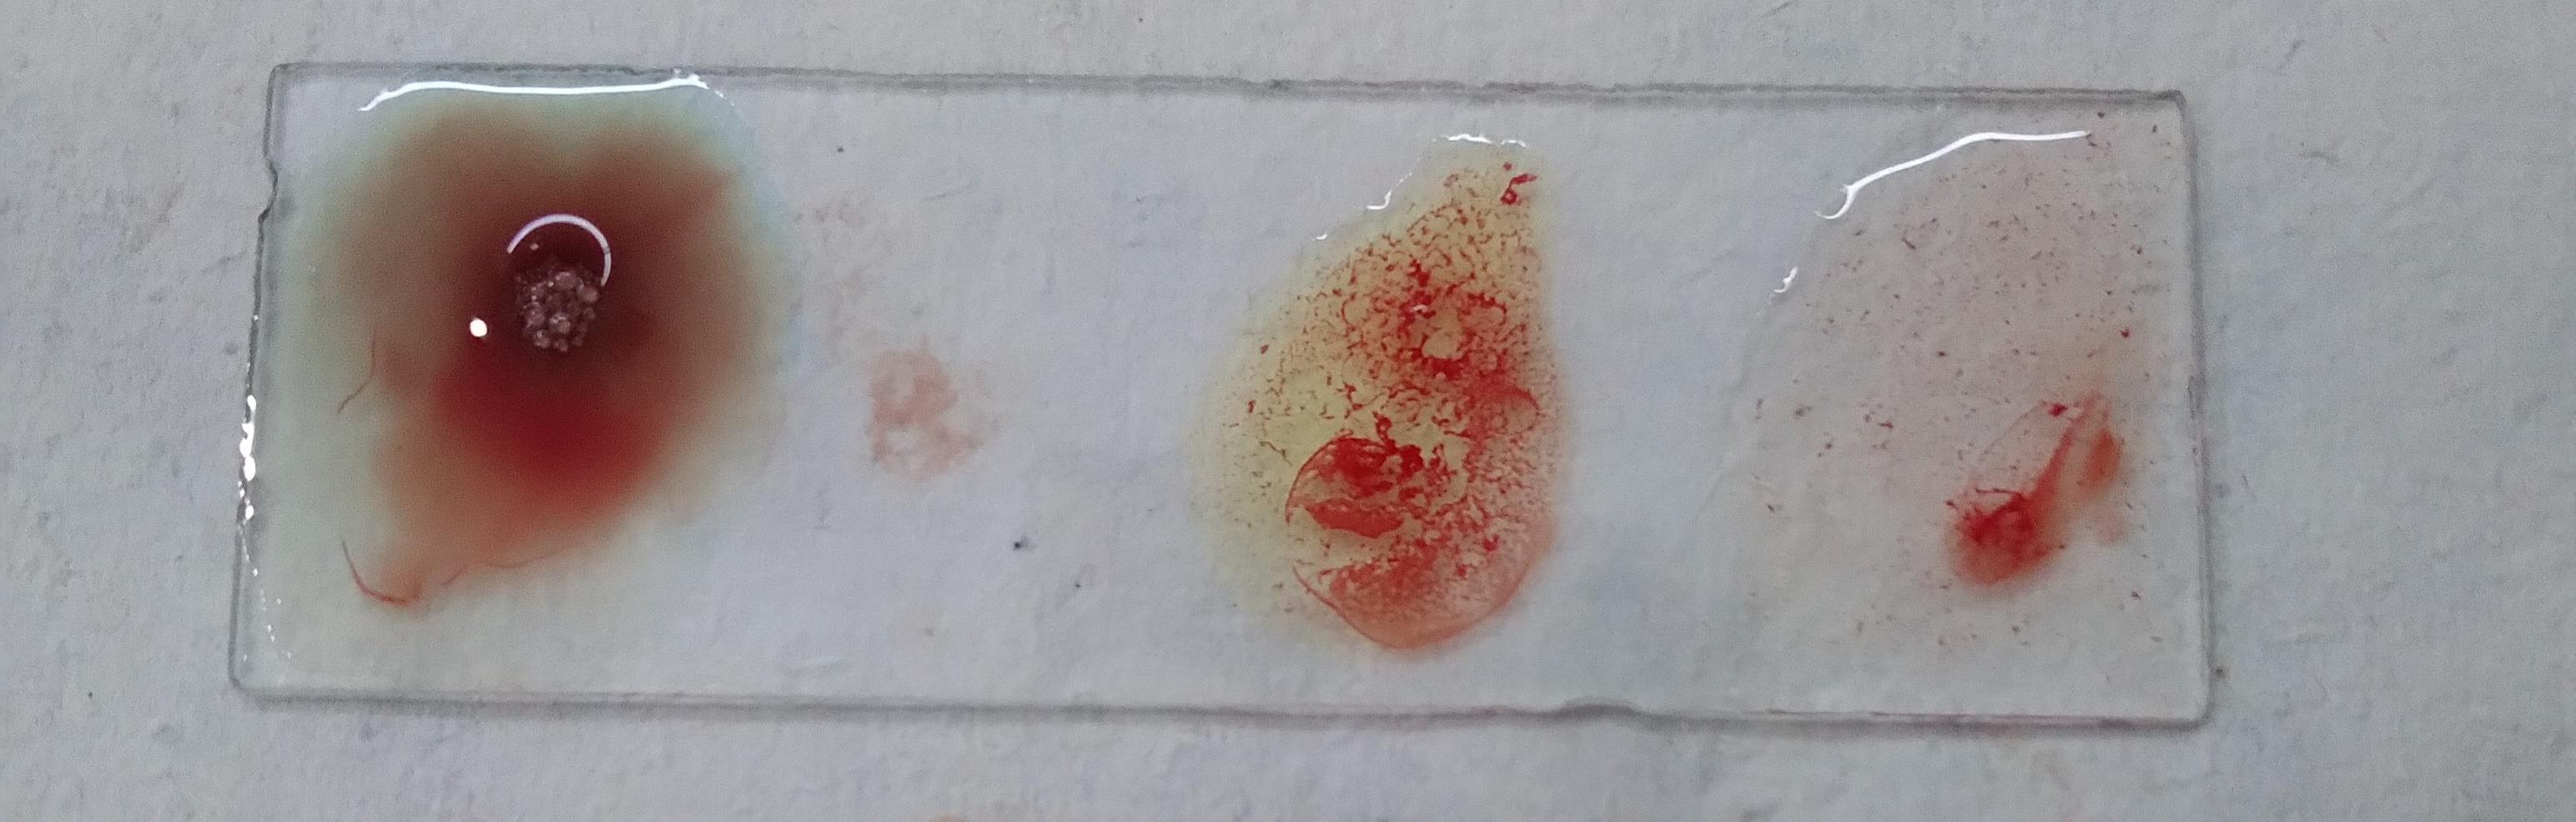B: (1229, 150, 1569, 664)
D: (1750, 140, 2185, 672)
